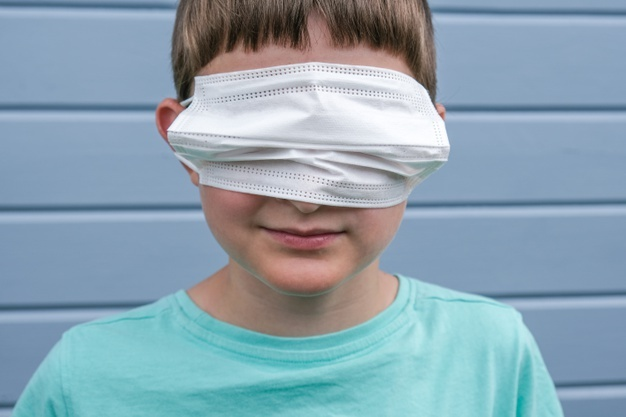with_incorrect_mask: (184, 57, 420, 269)
